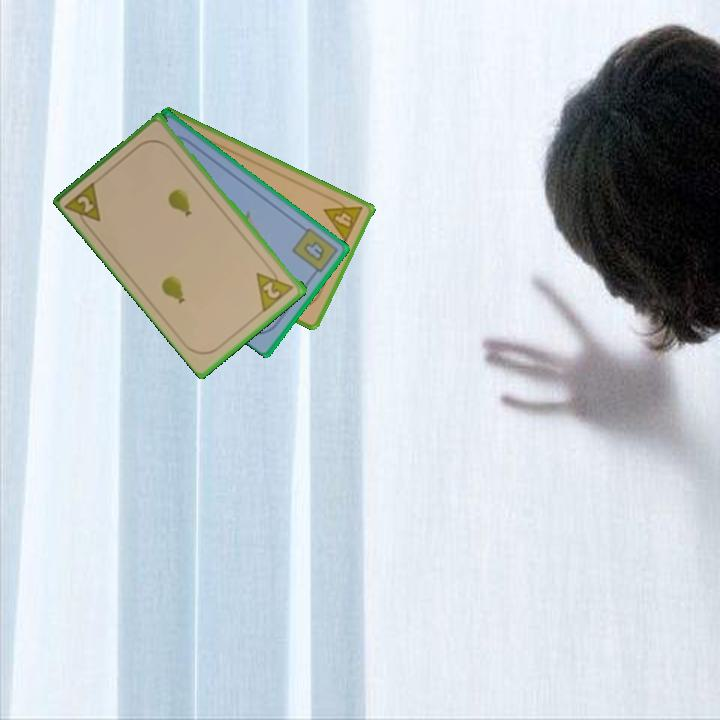2p: (253, 262, 298, 314), (63, 177, 104, 232)
4b: (289, 224, 341, 280)
4p: (320, 193, 366, 245)
